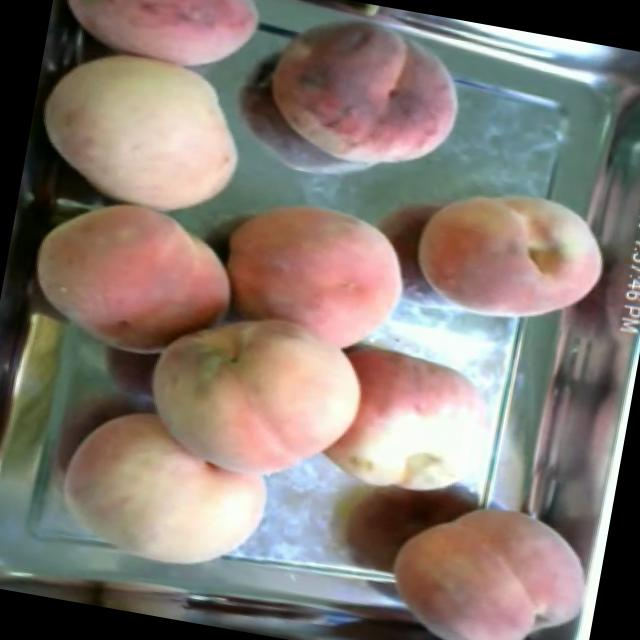Fruit: (119, 294, 384, 506), (36, 383, 290, 600), (19, 31, 271, 226), (9, 188, 255, 384), (236, 0, 480, 190), (196, 180, 423, 362), (367, 476, 608, 640), (400, 170, 622, 343), (40, 0, 282, 111)
